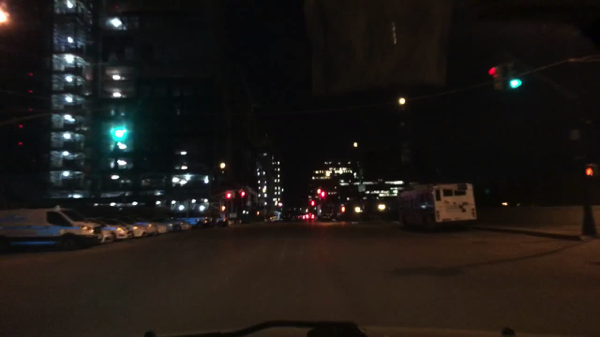bus: (396, 181, 477, 232)
car: (0, 205, 102, 251), (84, 216, 118, 240), (98, 217, 133, 239), (115, 216, 144, 237), (142, 217, 168, 235), (128, 214, 154, 232), (154, 217, 182, 230), (174, 217, 190, 230), (185, 218, 205, 227), (213, 214, 227, 225), (198, 217, 214, 224), (280, 212, 294, 220), (306, 212, 316, 221), (295, 212, 305, 220)
traffic light: (507, 60, 523, 92), (487, 60, 504, 90), (582, 163, 597, 177), (114, 123, 124, 140), (318, 189, 327, 198), (224, 191, 233, 199), (309, 199, 315, 208), (240, 190, 245, 198), (341, 205, 346, 213)
